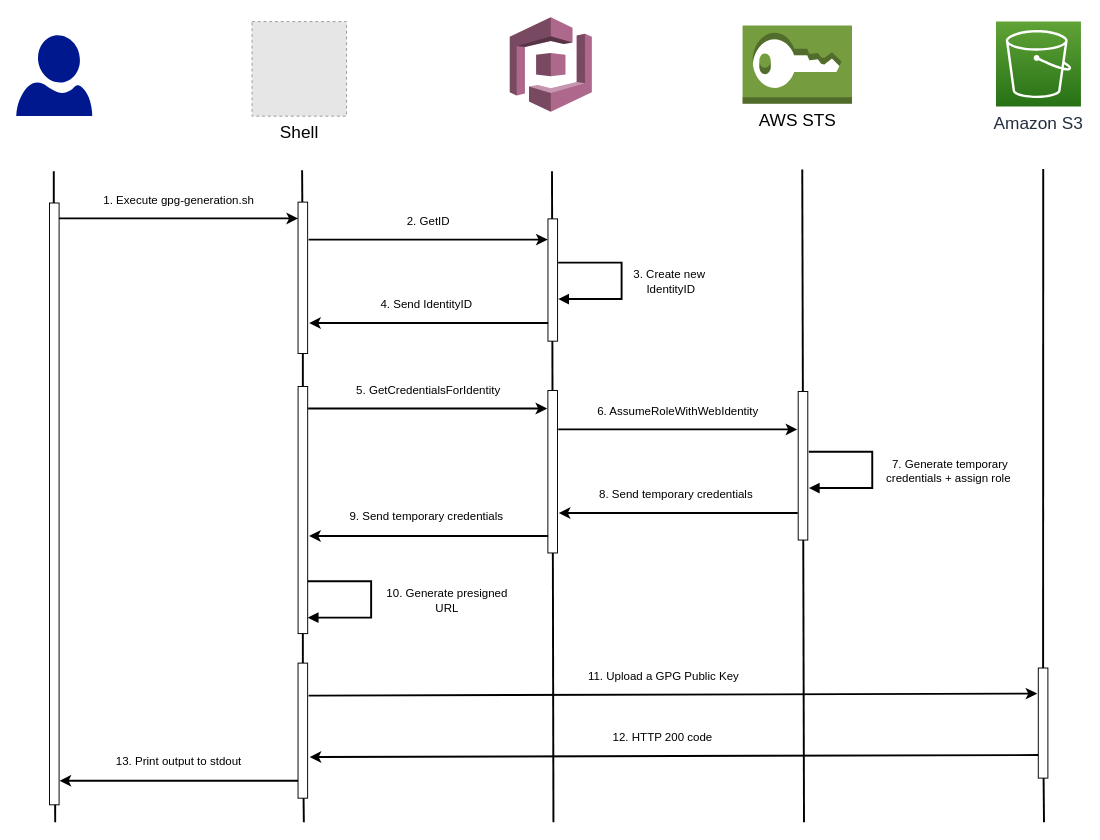
The diagram is 1100 pixels wide and 840 high, and some of its shapes have lost their labels. Grey dashed boxes stand in for pictures. The centre of each missing label's shape, as x and y in pixels:
"Amazon Cognito" goes at (x=550, y=64).
"User" goes at (x=54, y=75).
